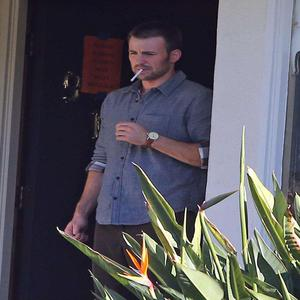cigarette: (129, 66, 143, 84)
